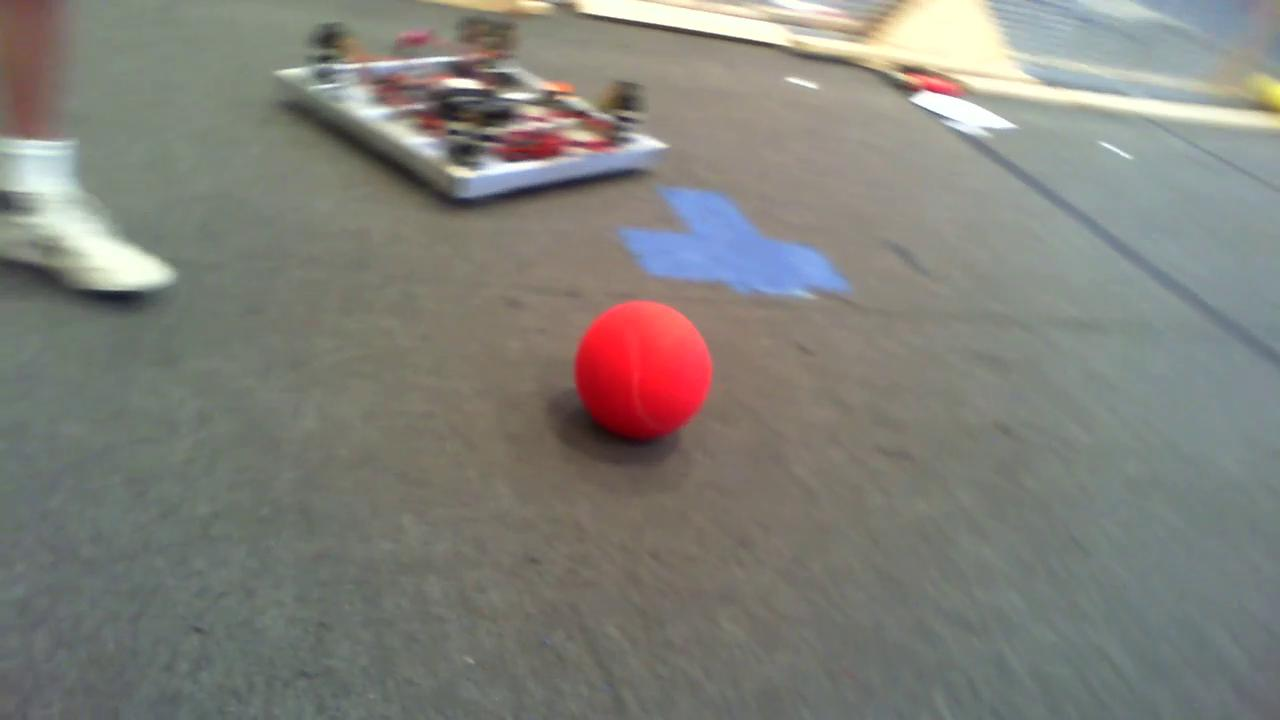Red_Ball: (568, 293, 716, 446)
